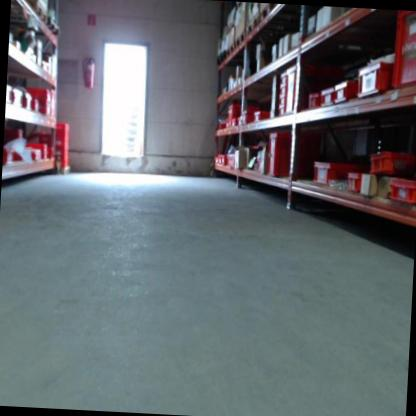pallet: (26, 0, 48, 23), (260, 4, 278, 22), (246, 15, 259, 36), (235, 30, 246, 47), (224, 44, 234, 58)
small_load_carrier: (387, 12, 416, 94), (284, 58, 322, 120), (347, 56, 390, 101), (266, 131, 306, 178), (310, 160, 362, 187), (368, 149, 416, 175), (386, 173, 416, 205), (330, 72, 355, 108), (313, 83, 332, 111), (22, 88, 50, 107), (23, 140, 51, 157), (344, 171, 363, 191), (31, 105, 49, 121), (309, 91, 324, 110), (254, 106, 269, 125), (274, 103, 290, 118), (277, 82, 291, 95), (277, 72, 291, 83), (277, 95, 290, 103)
